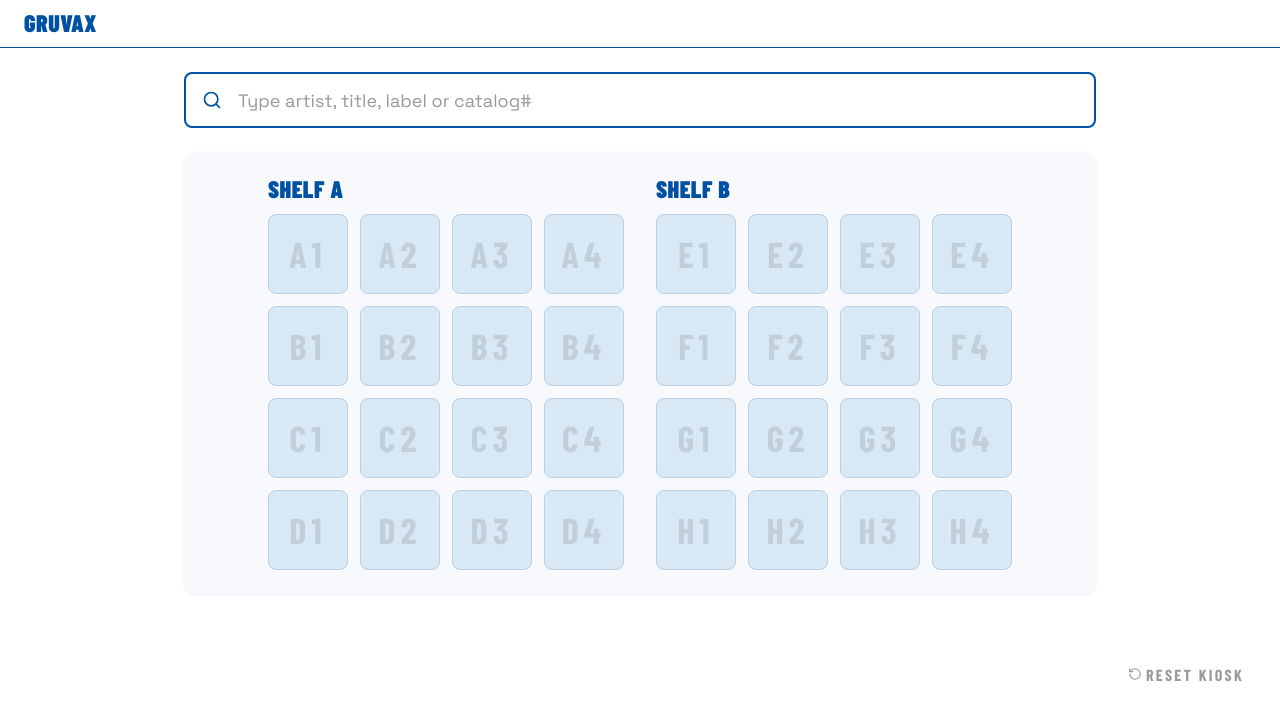
it: KioskView — Reset kiosk clears the results dropdown (gruvax-b76z) › reset closes the dropdown, and retyping the same query afterwards reopens it
Type "miles" into the search field named "search vinyl collection" at {"x": 658, "y": 100}, box x1=222 y1=74 x2=1094 y2=126
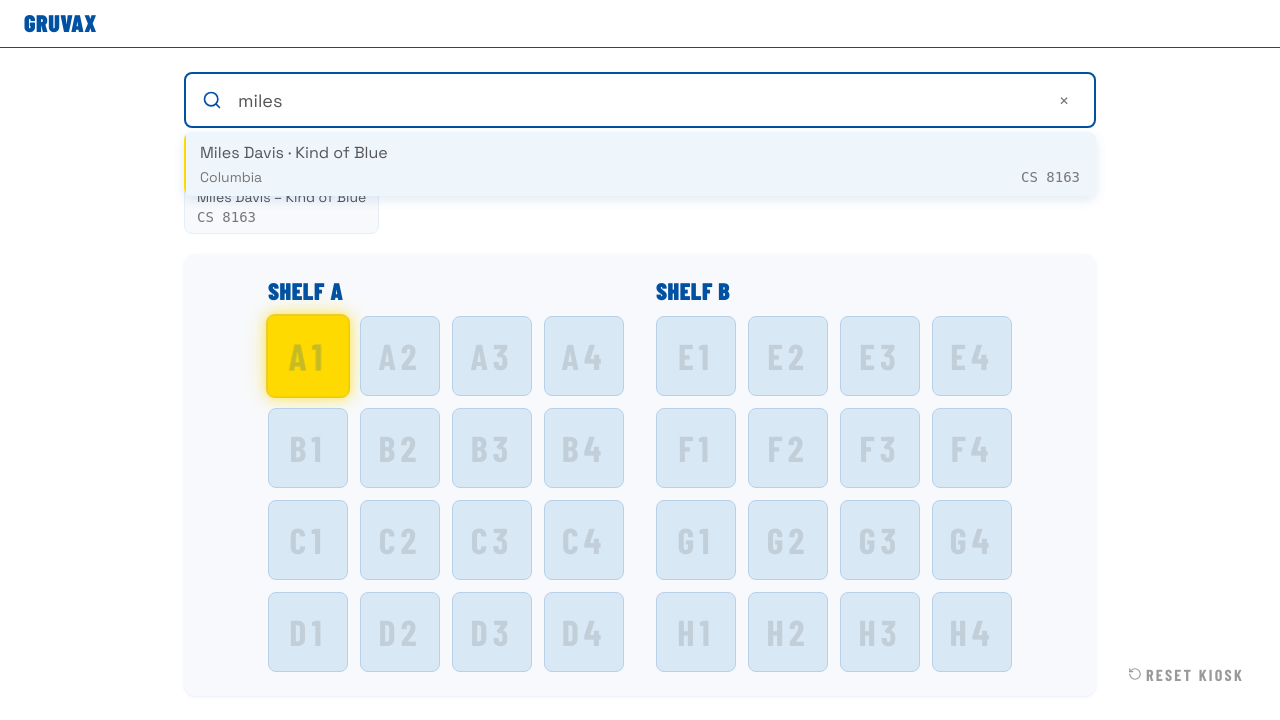
Now the list named "search results" is shown, box x1=184 y1=132 x2=1096 y2=196
Click the button "RESET KIOSK" at {"x": 1186, "y": 674}, box x1=1116 y1=652 x2=1256 y2=696
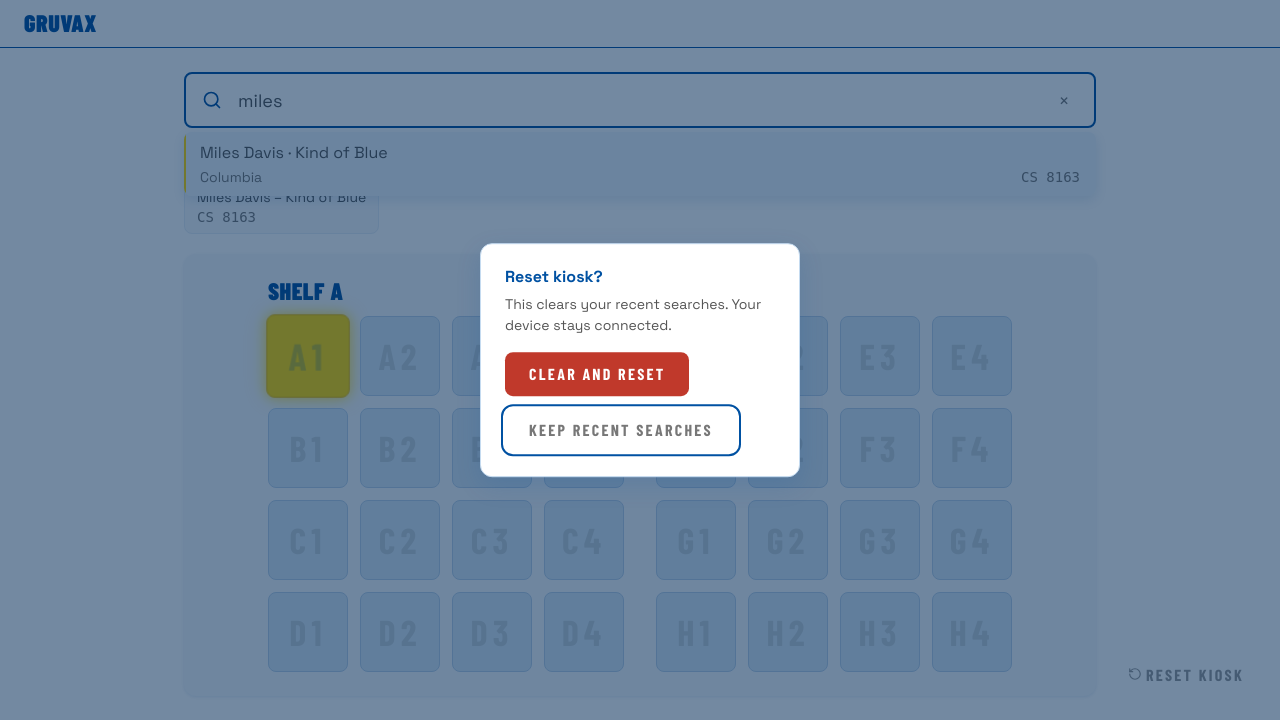
Click the button "CLEAR AND RESET" at {"x": 597, "y": 374}, box x1=505 y1=352 x2=689 y2=396
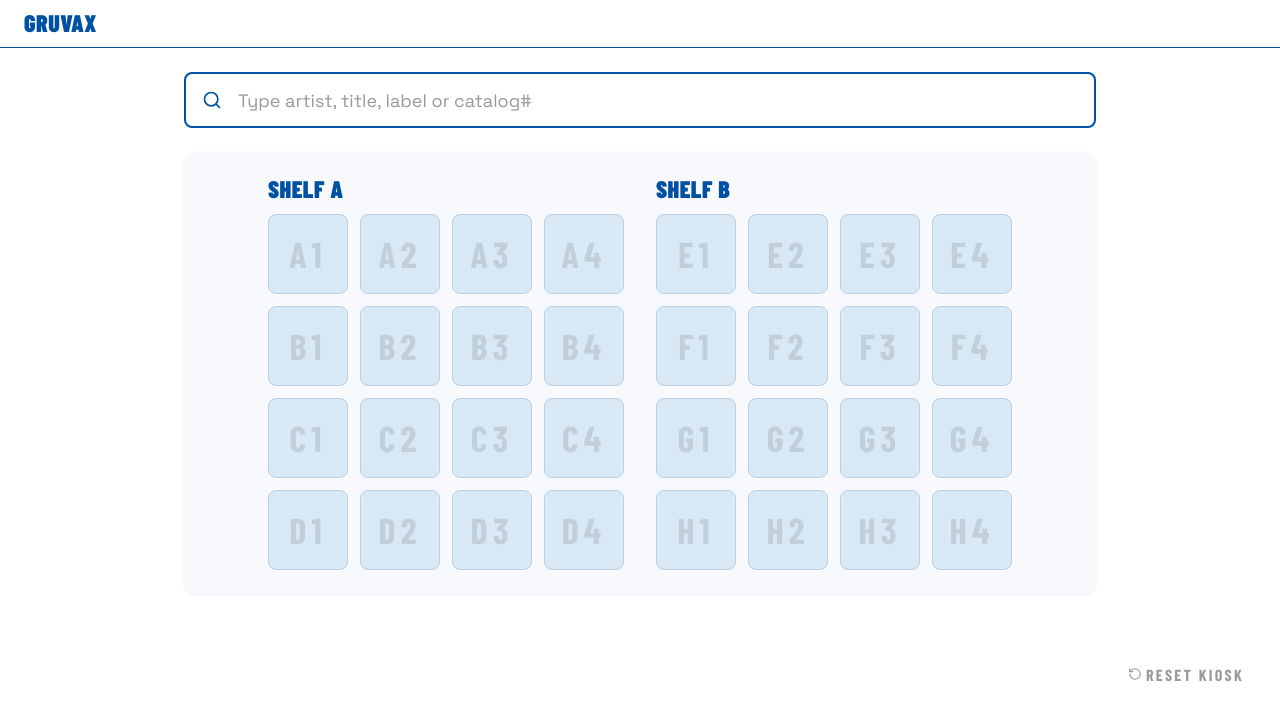
Now the search field named "search vinyl collection" is empty
Type "miles" into the search field named "search vinyl collection" at {"x": 658, "y": 100}, box x1=222 y1=74 x2=1094 y2=126
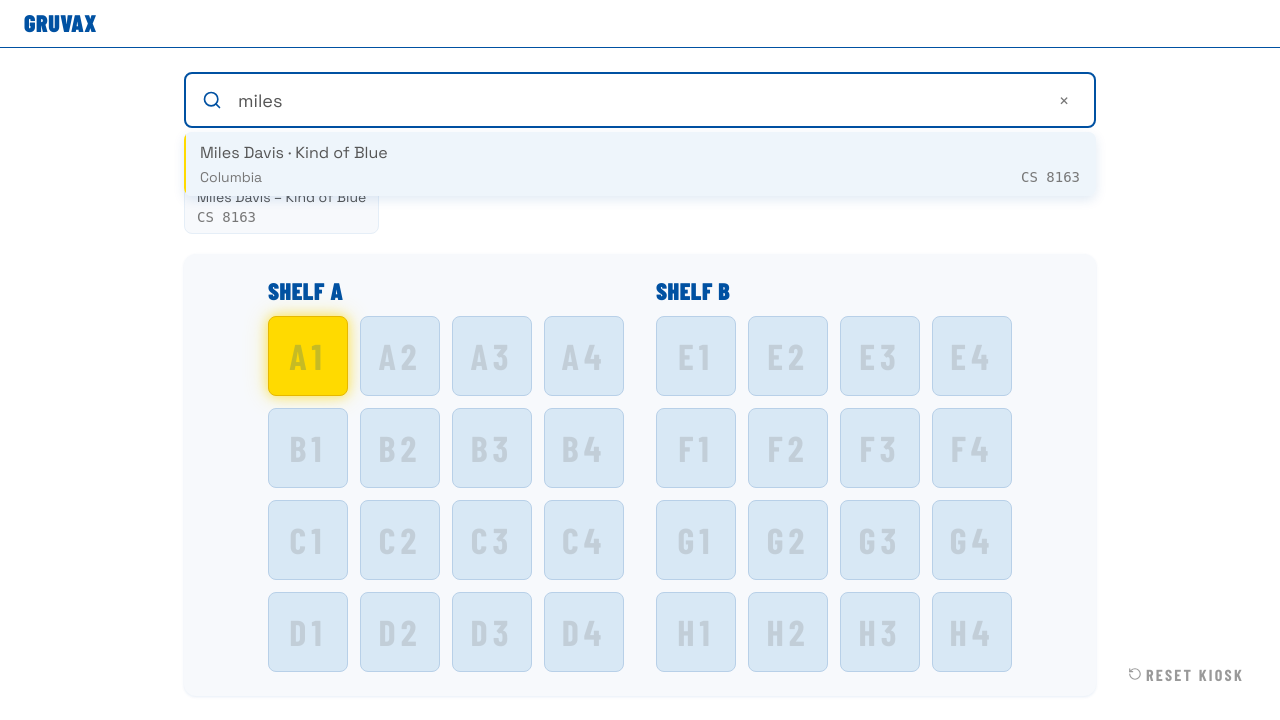
Now the list named "search results" is shown, box x1=184 y1=132 x2=1096 y2=196
